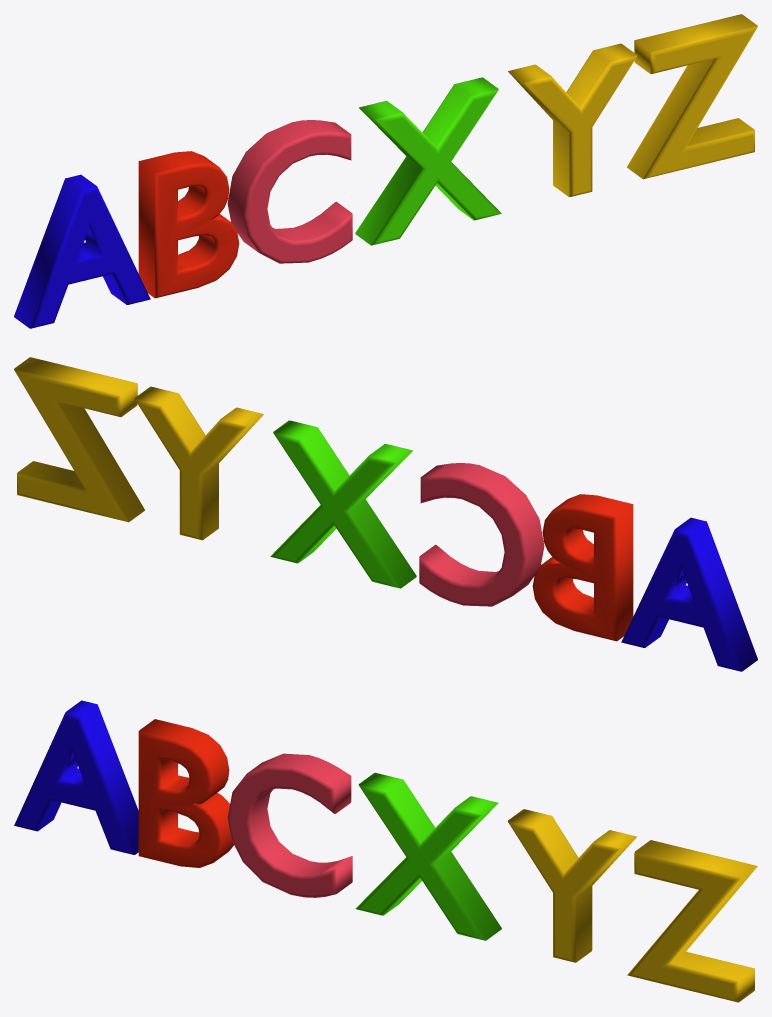
File: Letters.glb
3 views of the same model, one above another, from view 1: azimuth 30°, elevation 25°; view 2: azimuth 150°, elevation 25°; view 3: azimuth 330°, elevation 25° (orthographic).
Visible parts, largest first — view 1: Z, B, X, C, A, Y; view 2: Z, B, X, C, A, Y; view 3: B, X, Z, C, A, Y.
Boxes of the visible parts, box(x1,y1,x2,y2) form: Z: box(627, 14, 757, 179); B: box(138, 151, 239, 298); X: box(355, 77, 501, 245); C: box(227, 120, 352, 263); A: box(14, 174, 150, 328); Y: box(508, 43, 637, 197); Z: box(14, 357, 144, 522); B: box(532, 494, 633, 641); X: box(270, 420, 416, 588); C: box(419, 463, 544, 606); A: box(621, 517, 757, 671); Y: box(134, 386, 263, 540); B: box(138, 719, 233, 867); X: box(355, 772, 501, 940); Z: box(627, 840, 757, 1002); C: box(227, 753, 352, 897); A: box(14, 700, 138, 854); Y: box(508, 809, 636, 962).
Size of the model in its own units: 4.39 by 0.7402 by 0.2.
